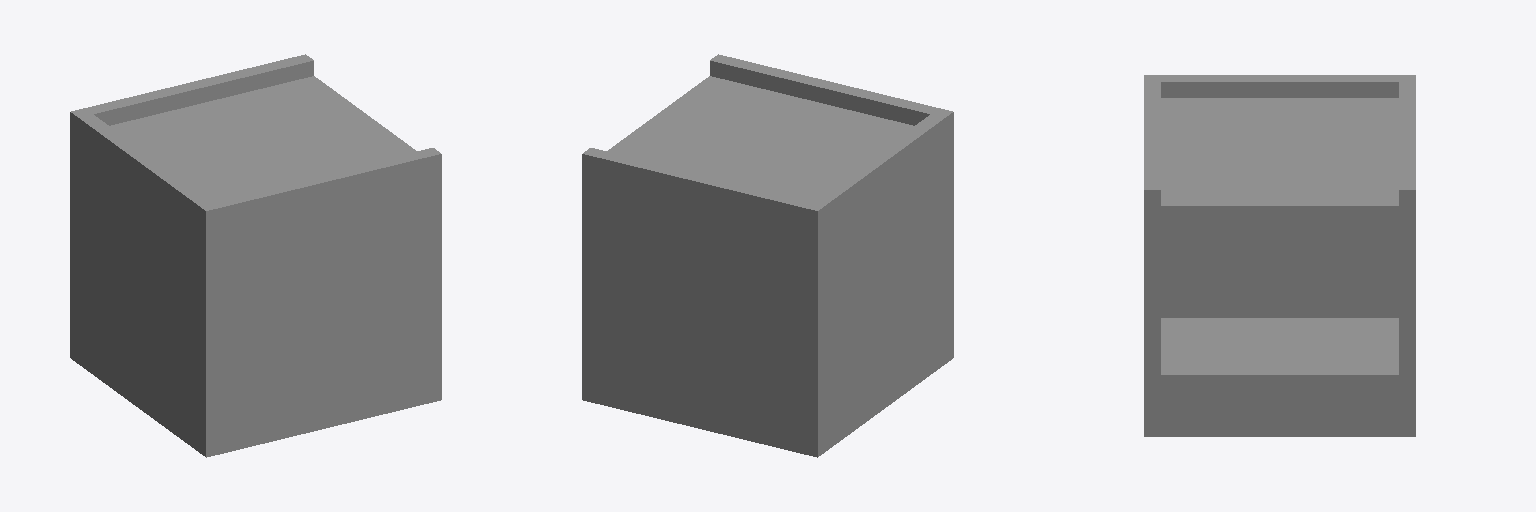
File: deepdrill.obj
3 views of the same model, side by side, from view 1: azimuth 30°, elevation 25°; view 2: azimuth 150°, elevation 25°; view 3: azimuth 270°, elevation 25° (orthographic).
Parts seen in each view (by area): view 1: Cube; view 2: Cube; view 3: Cube.
Part boxes in pixels (bbox=[...]): Cube: bbox=[70, 54, 441, 457]; Cube: bbox=[582, 54, 953, 457]; Cube: bbox=[1144, 75, 1415, 436].
Bounding box in the file's own units: 1 × 1 × 1.